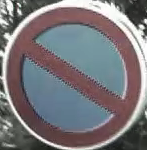No waiting: (8, 4, 140, 143)
